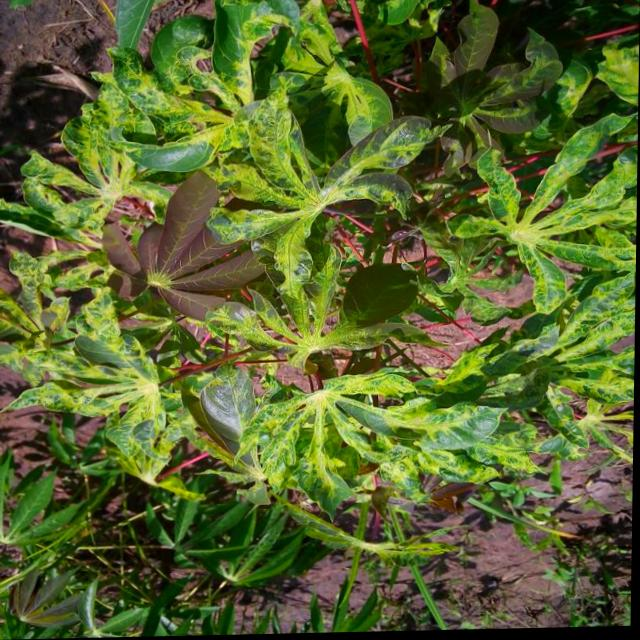Mosaico: (12, 118, 294, 296), (213, 109, 475, 296), (230, 377, 472, 541), (414, 348, 624, 516), (43, 322, 256, 486), (110, 51, 436, 144), (446, 149, 640, 300), (217, 232, 397, 389)
